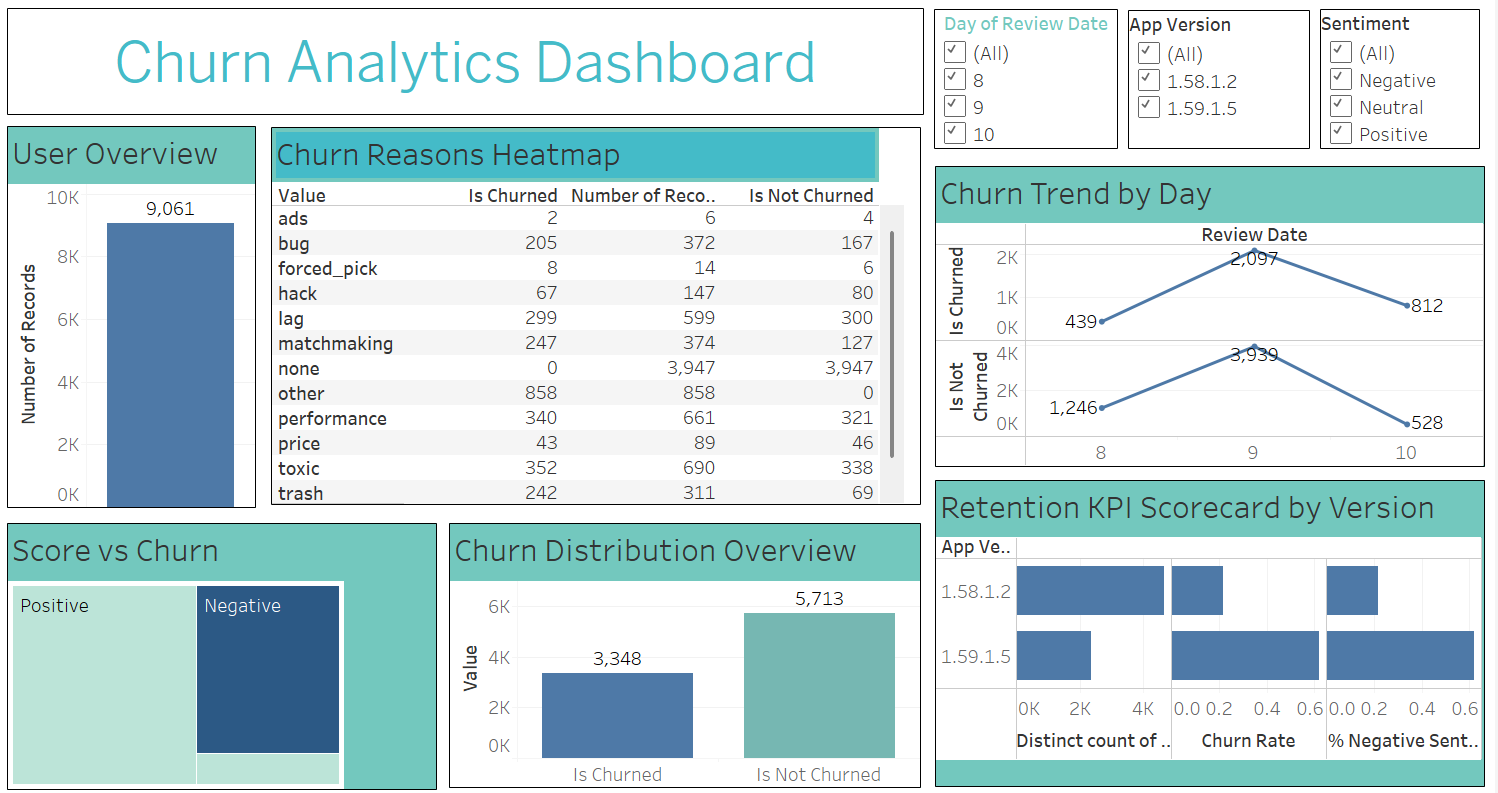

Layout of this report page (visuals, bound fields, positions):
{"tool":"tableau","page":{"name":"Churn Analytics Dashboard","canvas":[1500,800],"ordinal":0},"visuals":[{"type":"text","box":[12,8,917,107]},{"type":"filter","title":"Churn Distribution Overview","param":"[federated.0fmc1lr01jqa0f14oydaw1qb88pb].[dy:review_date:ok]","box":[939,9,184,140]},{"type":"filter","title":"Score vs Churn","param":"[federated.0fmc1lr01jqa0f14oydaw1qb88pb].[none:sentiment:nk]","box":[1325,9,160,140]},{"type":"filter","title":"Churn Distribution Overview","param":"[federated.0fmc1lr01jqa0f14oydaw1qb88pb].[none:app_version:nk]","box":[1133,10,182,139]},{"type":"worksheet","title":"User Overview","mark":"Automatic","rows":["Calculation_220957887376207872"],"box":[12,126,249,382]},{"type":"worksheet","title":"Churn Reasons Heatmap","mark":"Automatic","rows":["Value"],"box":[276,127,650,378]},{"type":"worksheet","title":"Churn Trend by Day","mark":"Automatic","rows":["Calculation_220957887377481729","Calculation_220957887377555458"],"cols":["review_date"],"box":[940,166,550,301]},{"type":"worksheet","title":"Retention KPI Scorecard by Version","mark":"Automatic","rows":["app_version"],"cols":["user_name","Calculation_220957887380029444","Calculation_220957887426789381"],"box":[940,480,550,307]},{"type":"worksheet","title":"Score vs Churn","mark":"Automatic","box":[12,523,430,267]},{"type":"worksheet","title":"Churn Distribution Overview","mark":"Bar","box":[454,523,472,265]}]}

Visuals, with their boxes in screenshot pixels (x1, y1, x2, y2), scaled from the page's 1500x800 canvas onto the 1498x793 screenshot:
text: pyautogui.locateOnScreen(12, 8, 928, 114)
"Churn Distribution Overview" filter: pyautogui.locateOnScreen(938, 9, 1122, 148)
"Score vs Churn" filter: pyautogui.locateOnScreen(1323, 9, 1483, 148)
"Churn Distribution Overview" filter: pyautogui.locateOnScreen(1131, 10, 1313, 148)
"User Overview" worksheet: pyautogui.locateOnScreen(12, 125, 261, 504)
"Churn Reasons Heatmap" worksheet: pyautogui.locateOnScreen(276, 126, 925, 501)
"Churn Trend by Day" worksheet: pyautogui.locateOnScreen(939, 165, 1488, 463)
"Retention KPI Scorecard by Version" worksheet: pyautogui.locateOnScreen(939, 476, 1488, 780)
"Score vs Churn" worksheet: pyautogui.locateOnScreen(12, 518, 441, 783)
"Churn Distribution Overview" worksheet (Bar marks): pyautogui.locateOnScreen(453, 518, 925, 781)
